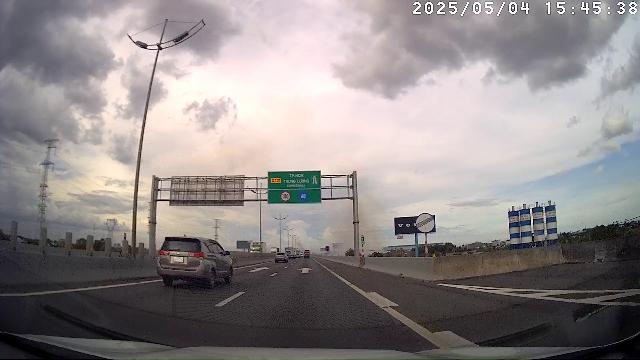127-toc-do-toi-da-100: (281, 191, 291, 201)
306-toc-do-toi-thieu-60: (298, 191, 310, 201)
437-bat-dau-duong-cao-toc: (312, 175, 318, 185)
